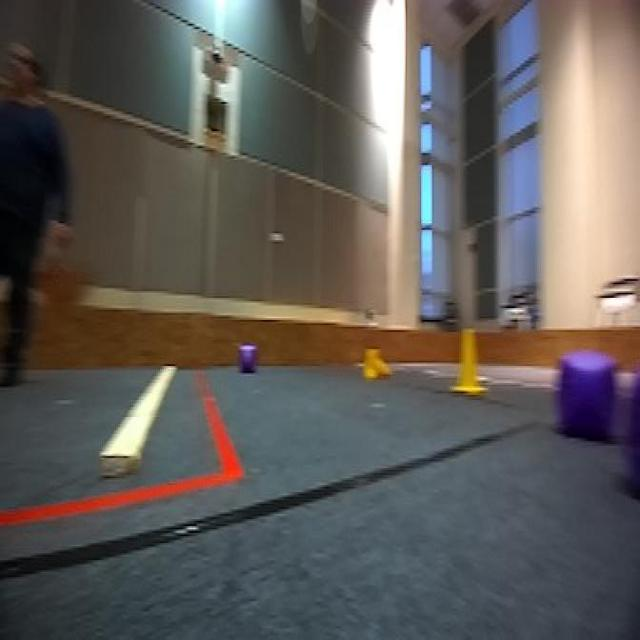frc_cone: (452, 325, 488, 398), (358, 344, 393, 383)
frc_cube: (557, 356, 615, 439), (236, 344, 258, 378)
